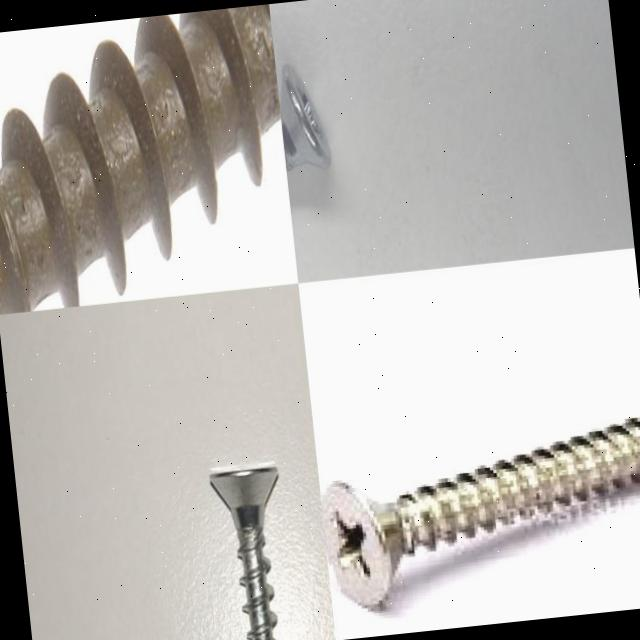Screw: (0, 4, 286, 314), (320, 415, 640, 609), (209, 461, 278, 640), (279, 62, 331, 170)
